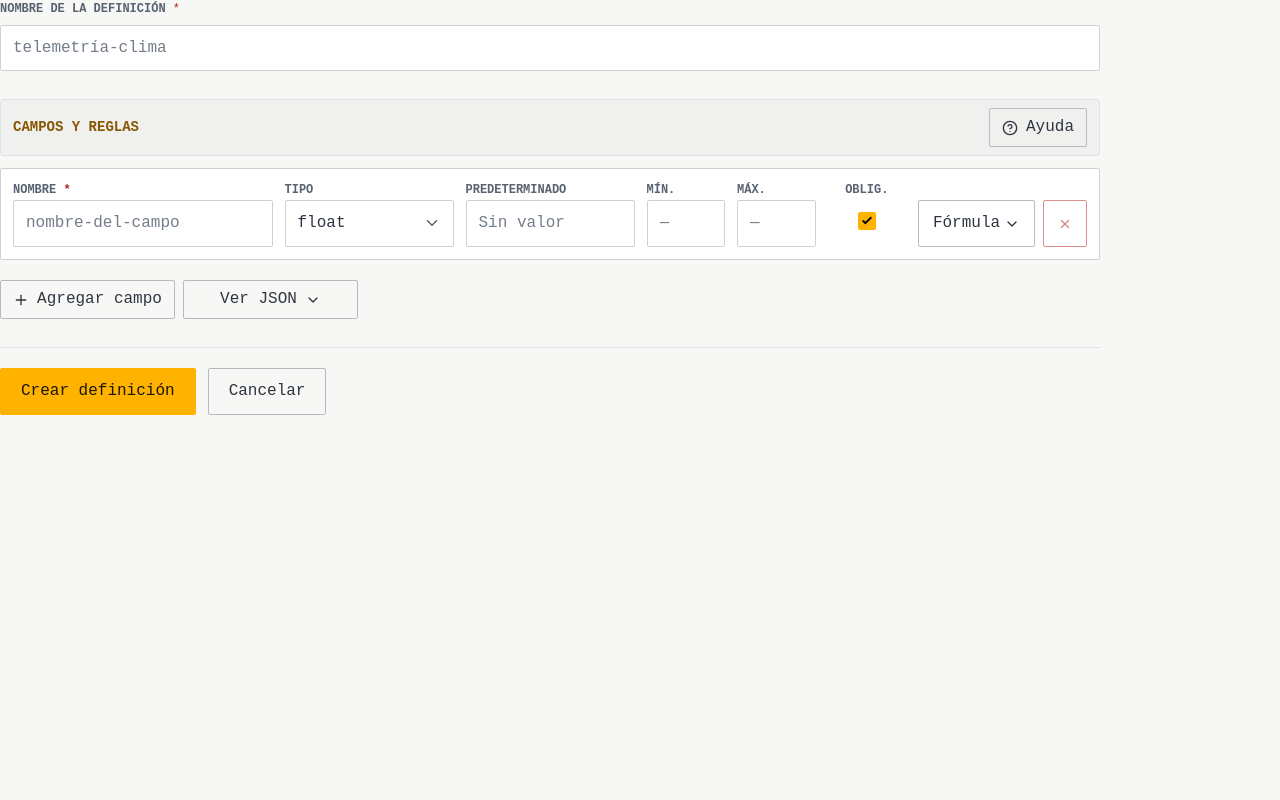
it: SchemaBuilder › muestra la guía de campos bajo demanda
Click the button "Ayuda" at (1038,128), box [989, 108, 1087, 147]
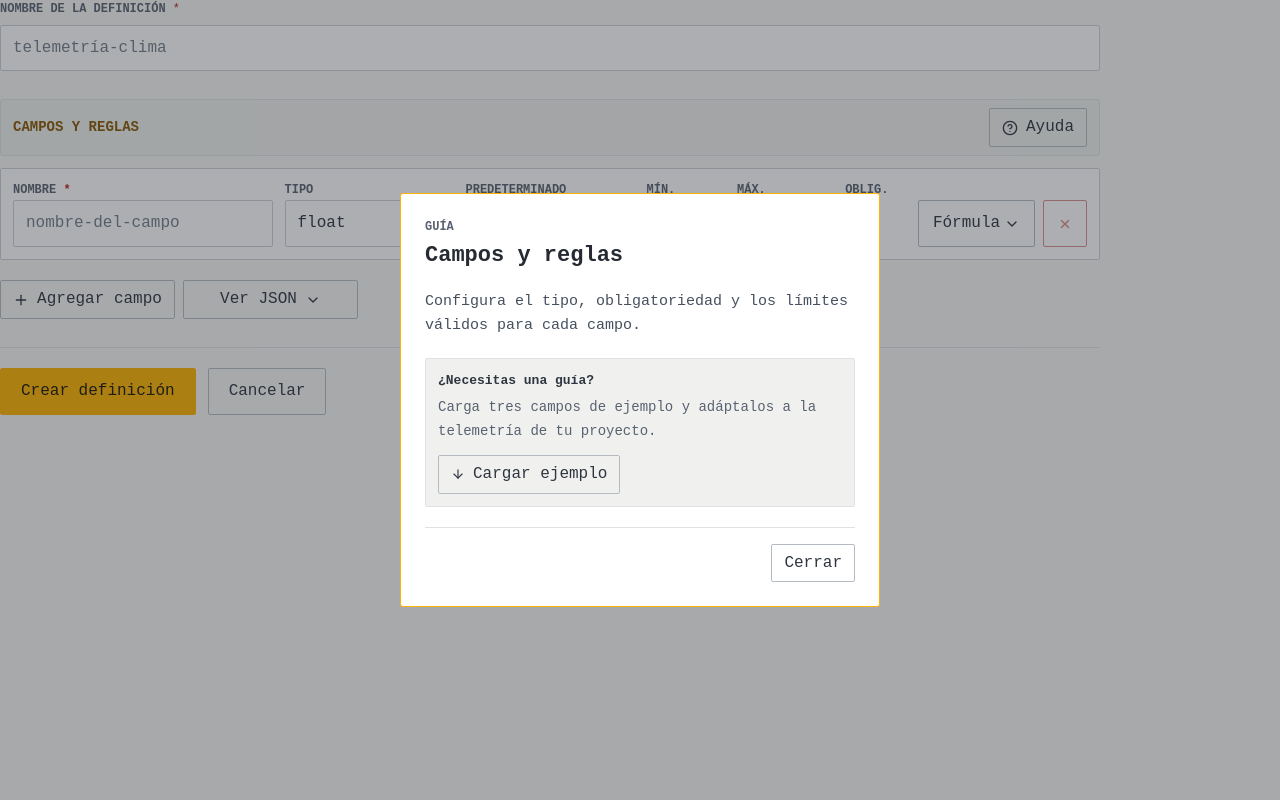
expect the dialog shows "Configura el tipo, obligatoriedad y los límites válidos para cada campo.": met, box [425, 293, 848, 334]
